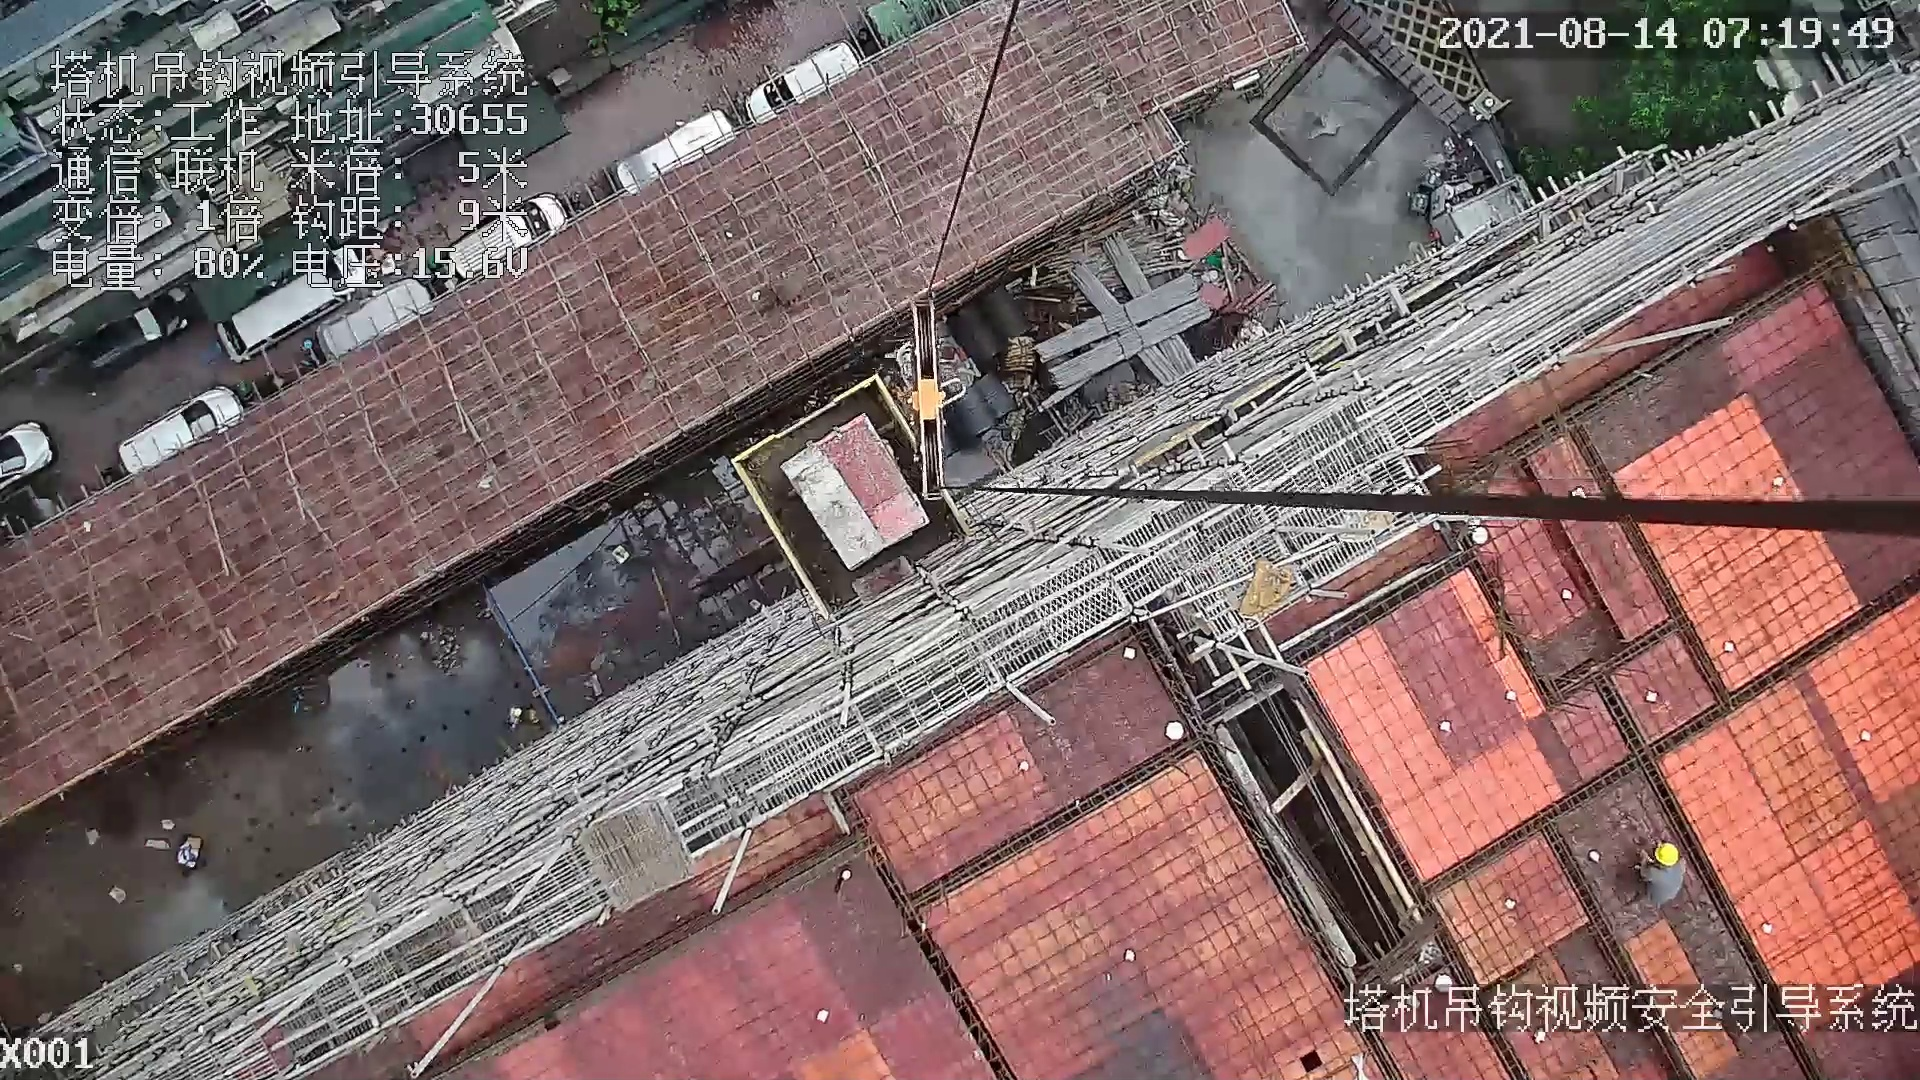helmet: (1654, 840, 1681, 870)
hook: (904, 296, 962, 503)
person: (1651, 845, 1690, 919)
